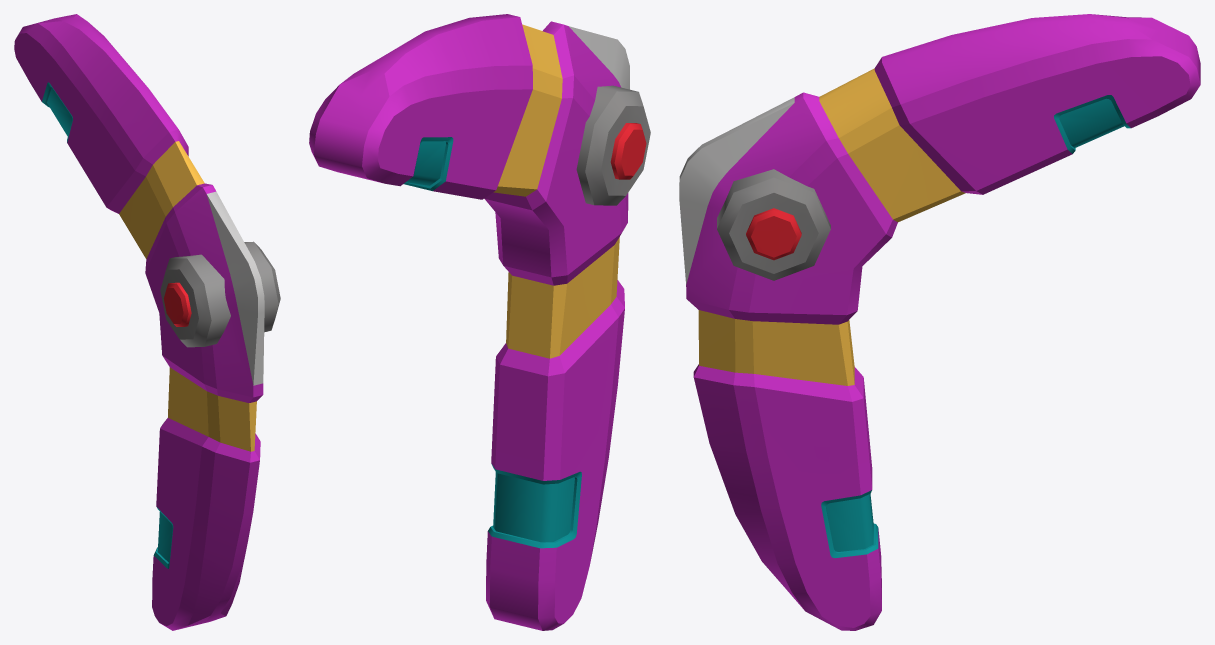
File: SM_BoomBerang_1_A_SW.003.fbx
3 renders of one model, left to right at view 1: azimuth 30°, elevation 25°; view 2: azimuth 150°, elevation 25°; view 3: azimuth 270°, elevation 25°, orthographic. The views are drawn at different scales.
Visible parts, largest first — view 1: SM_BoomBerang_1_A_SW.003; view 2: SM_BoomBerang_1_A_SW.003; view 3: SM_BoomBerang_1_A_SW.003.
Boxes of the visible parts, <box> form: SM_BoomBerang_1_A_SW.003: <box>14,14,280,630</box>; SM_BoomBerang_1_A_SW.003: <box>309,14,650,630</box>; SM_BoomBerang_1_A_SW.003: <box>679,14,1200,630</box>.
Size of the model in its own units: 0.0582 by 0.3088 by 0.2418.
